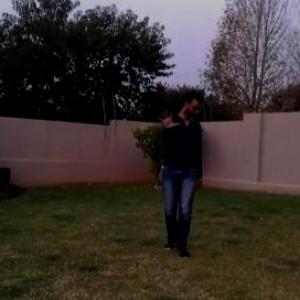follow_hand: (154, 105, 182, 131)
